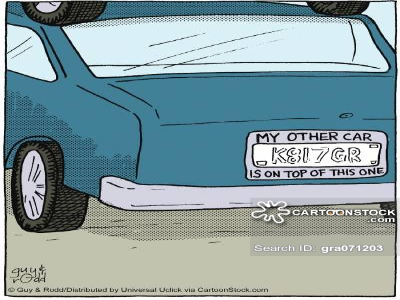licence: (254, 144, 372, 166)
